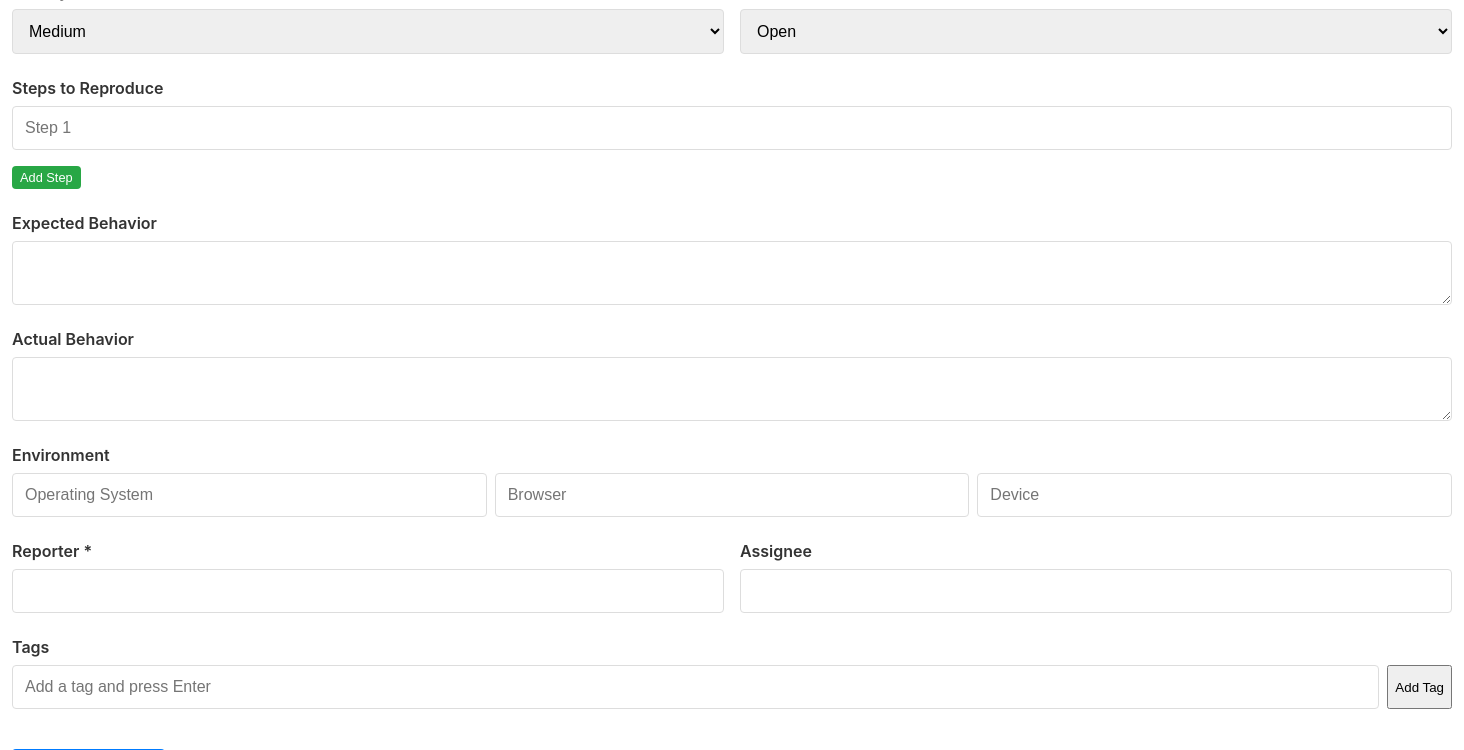
Test case: BugForm Component › handles tag addition and removal
The width and height of the screenshot is (1464, 750).
(page scrolled)
// Add a tag
Type "ui" into the field with placeholder "Add a tag and press Enter" at (696, 687), box [12,665,1379,709]
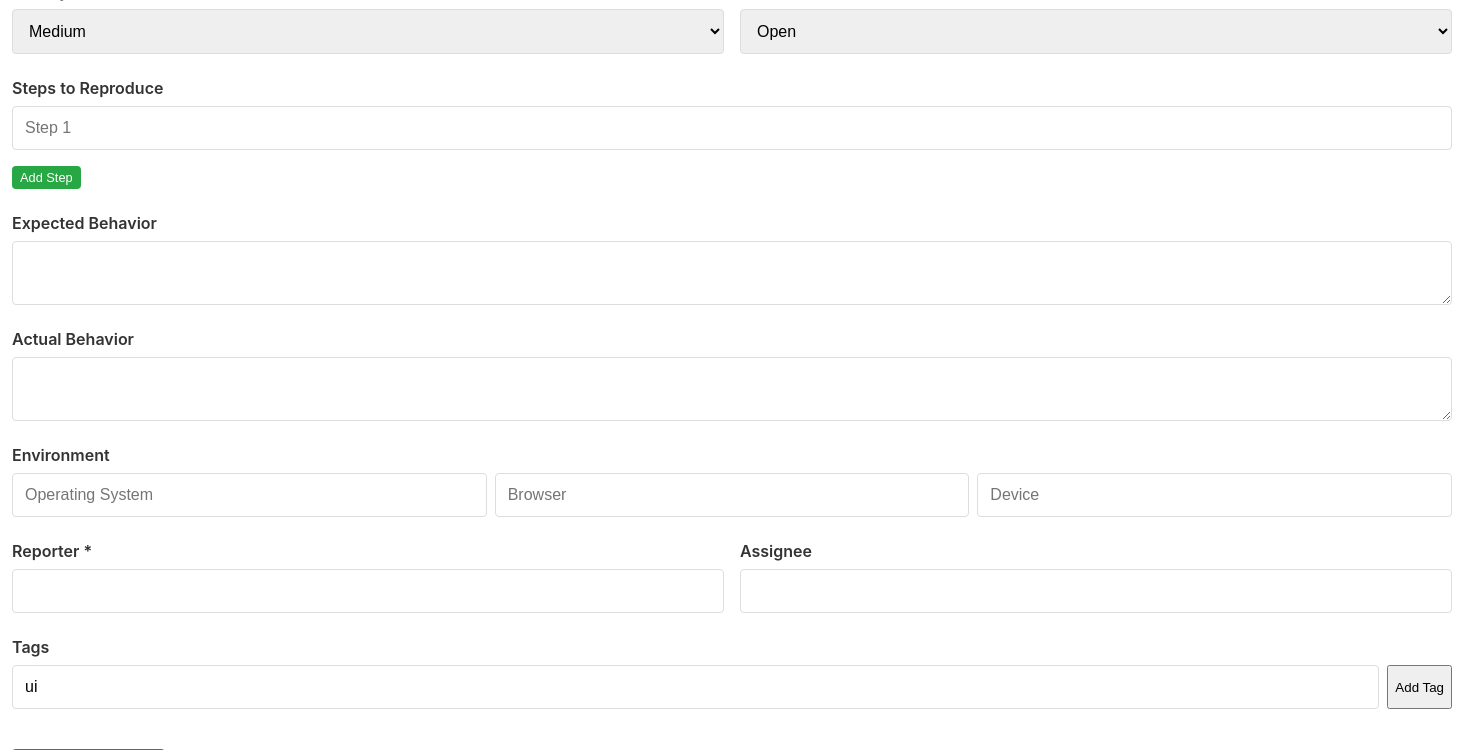
Click the button "Add Tag" at (1420, 687), box [1387,665,1452,709]
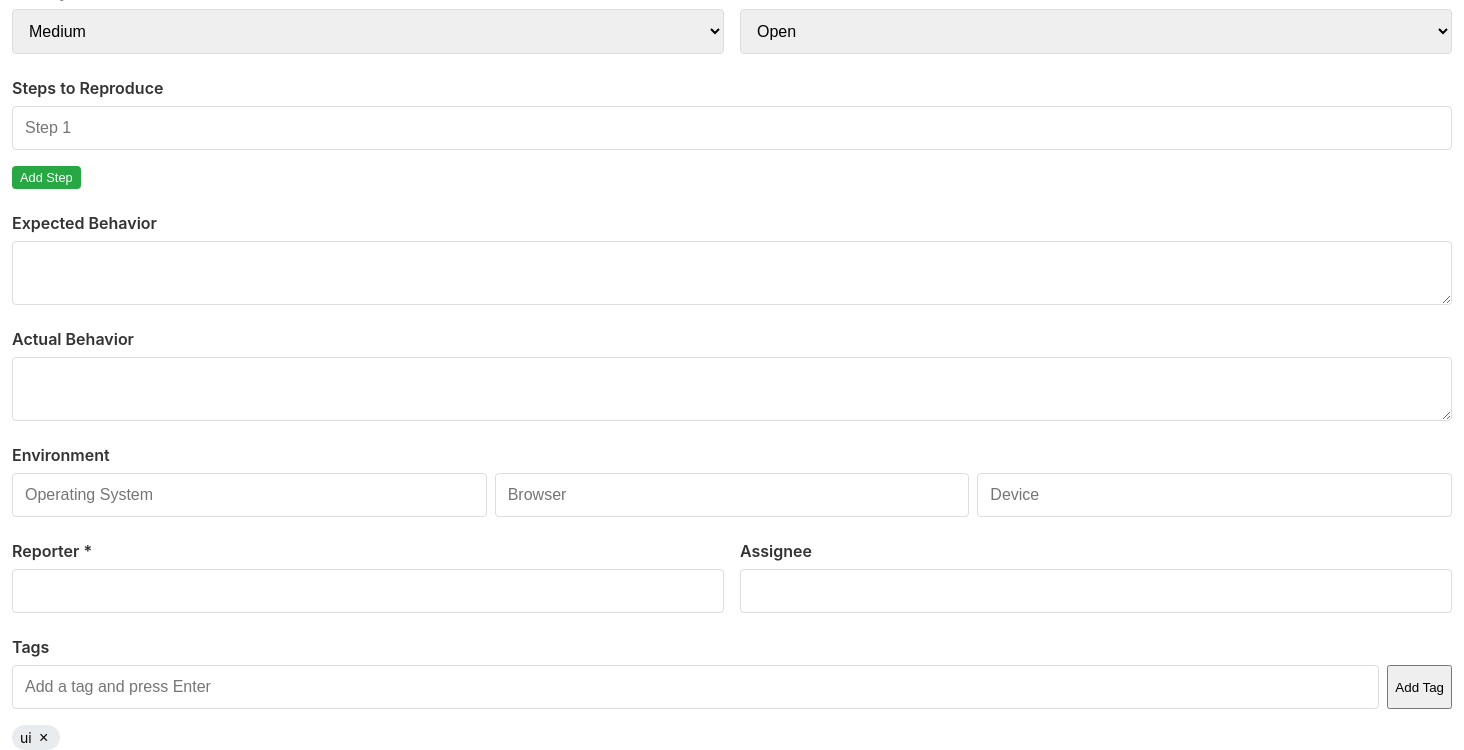
Expected: the text "ui" is shown, [20,729,32,746]
// Remove the tag
Click the button "×" at (44, 738), box [36,730,52,746]
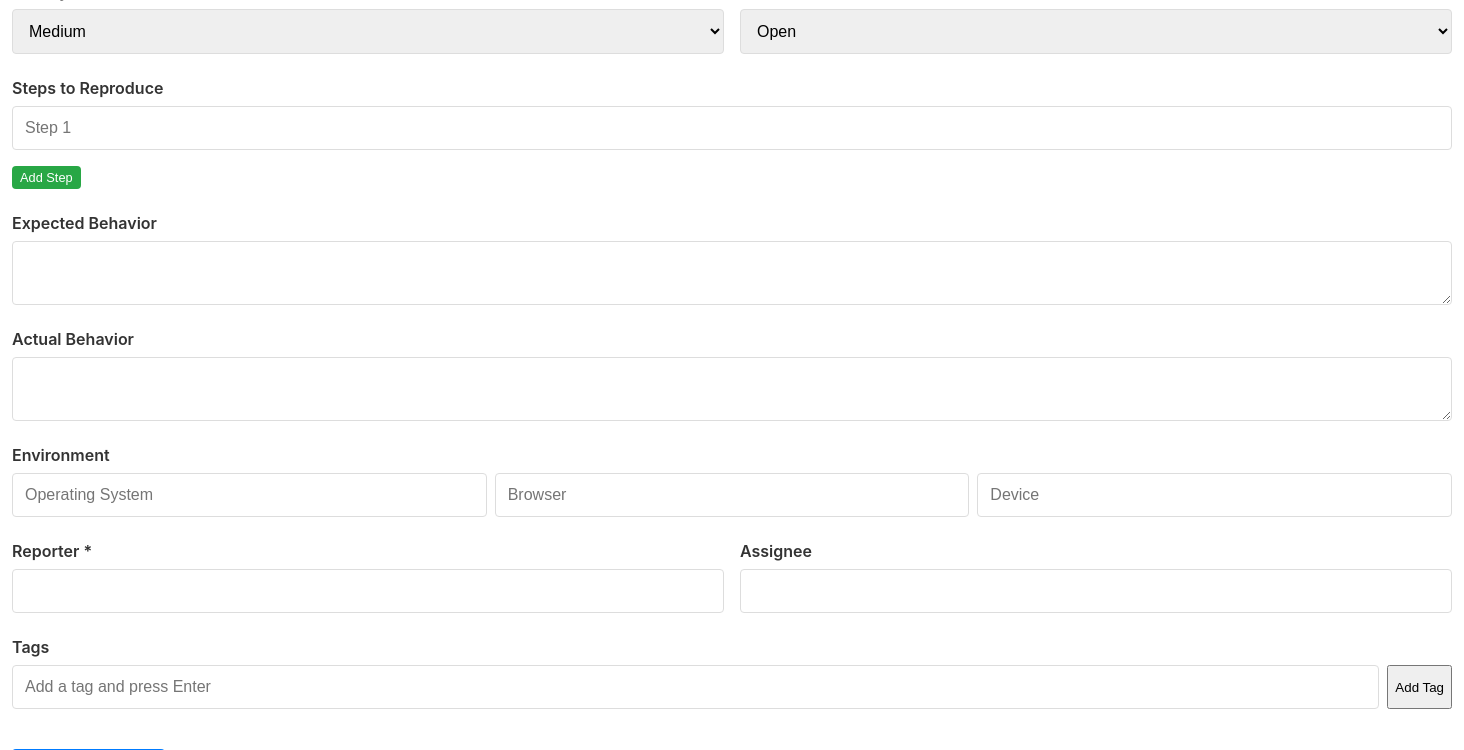
Expected: the text "ui" is gone
